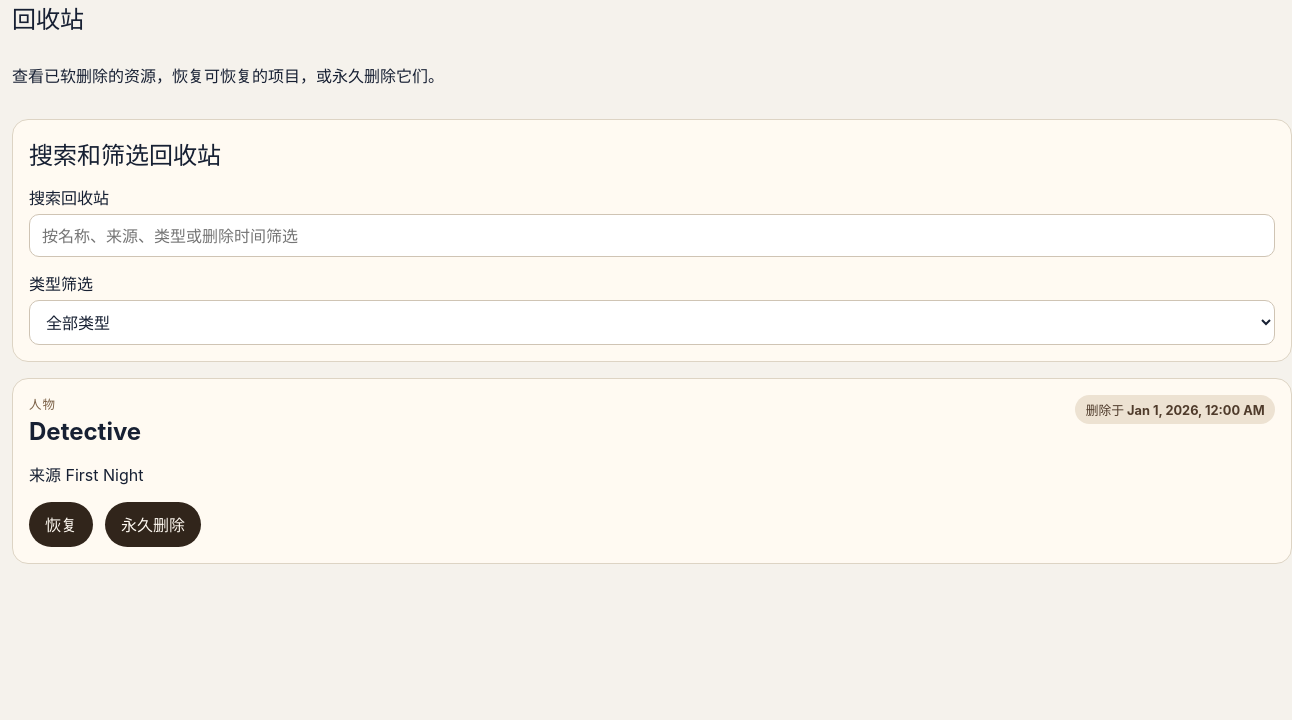
Scenario: TrashPage › permanently deletes soft-deleted characters
This screenshot has width=1292, height=720.
Expected: the element "Detective" is shown, [12, 378, 1291, 564]
Click the button "永久删除" at (153, 524), box [105, 502, 201, 547]
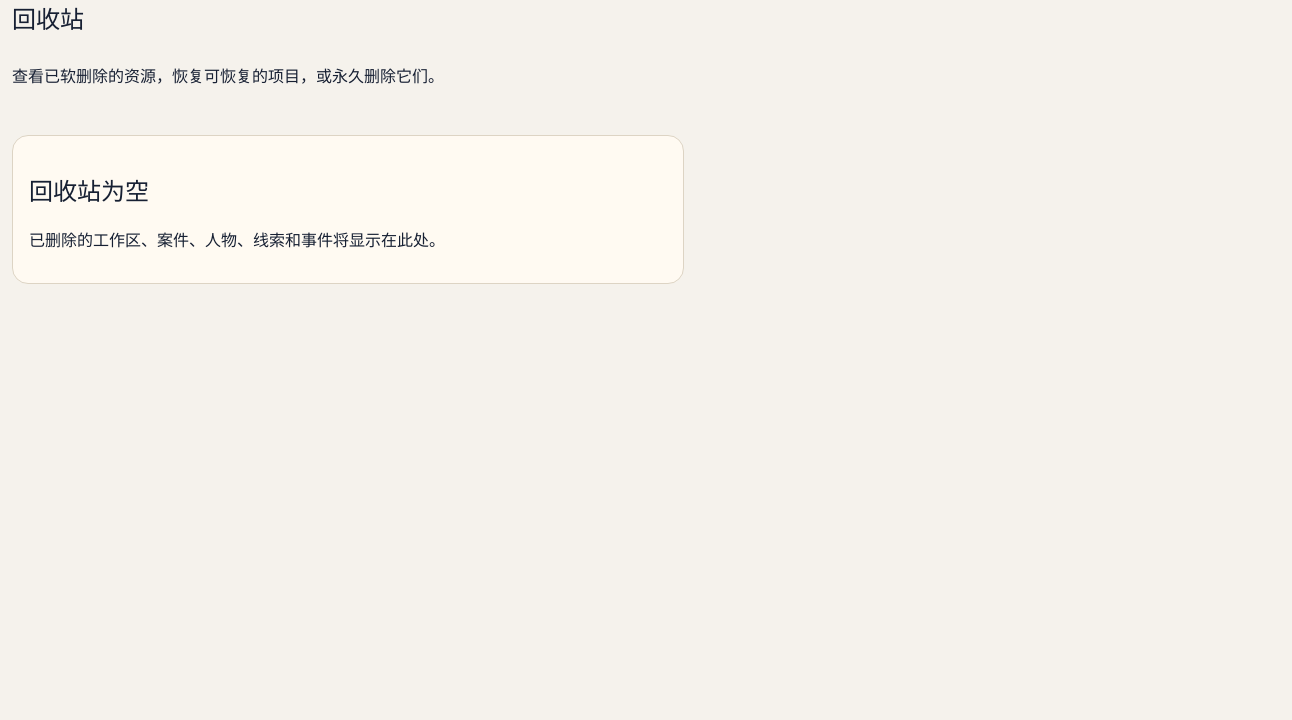
Expected: the heading "回收站为空" is shown, [29, 177, 149, 206]
